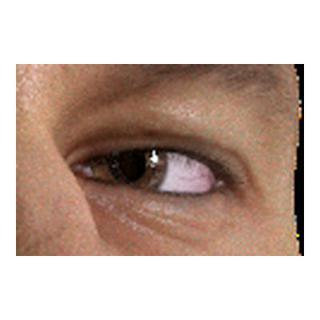pupil: (108, 144, 146, 182)
